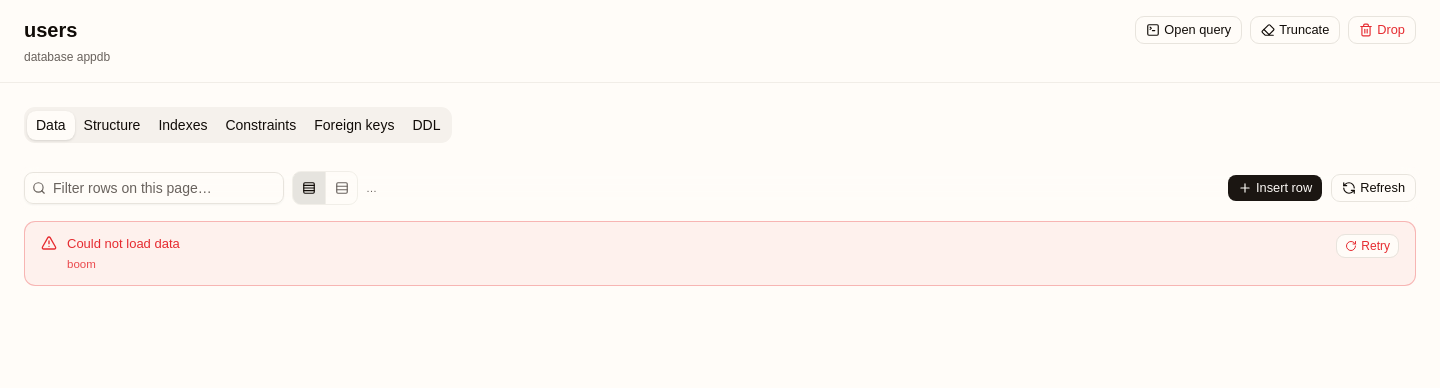
Test case: mysql TableDetailClient (characterization) › Retry after a failed rows load issues exactly one more rows request
Expected: the message "Could not load data boom Retry" is shown, [24,221,1416,286]
Click the button "Retry".
click(1368, 246)  # box [1336,234,1399,258]
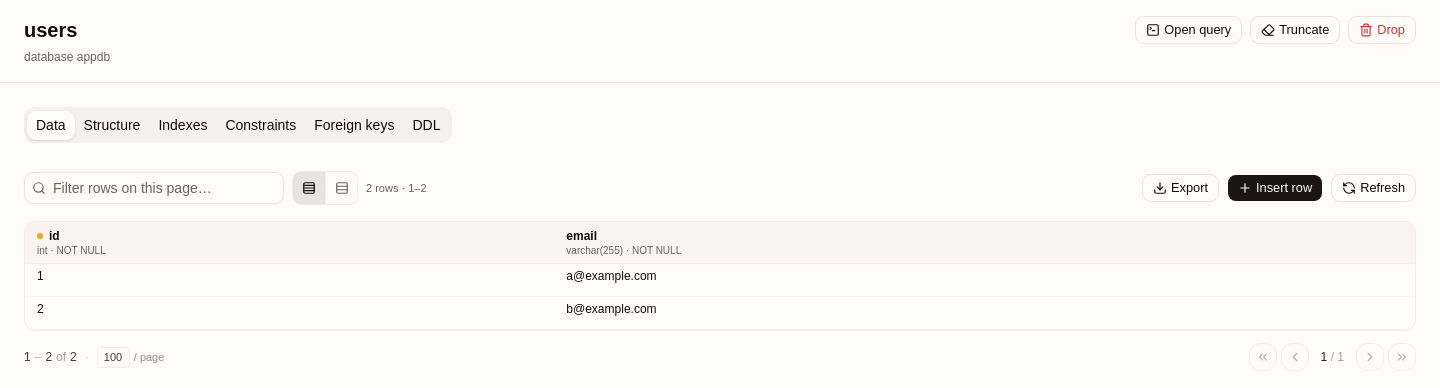
Expected: the text "a@example.com" is shown, [554,264,1347,297]
